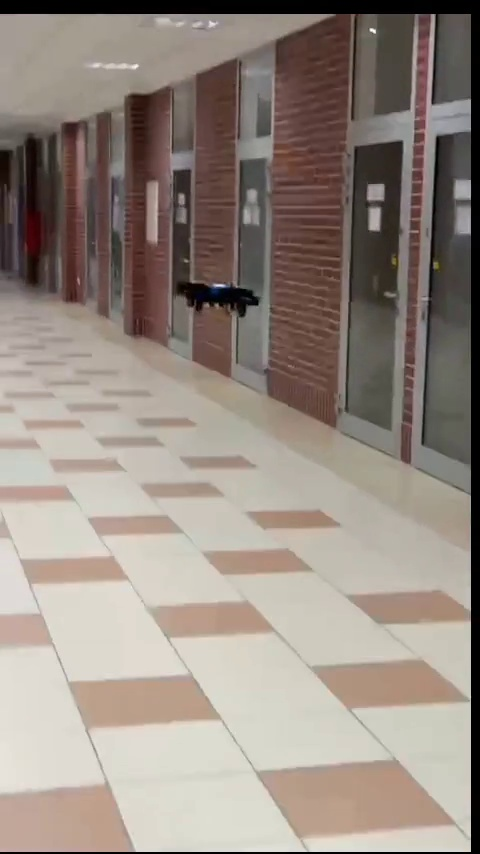drone: (176, 279, 255, 321)
